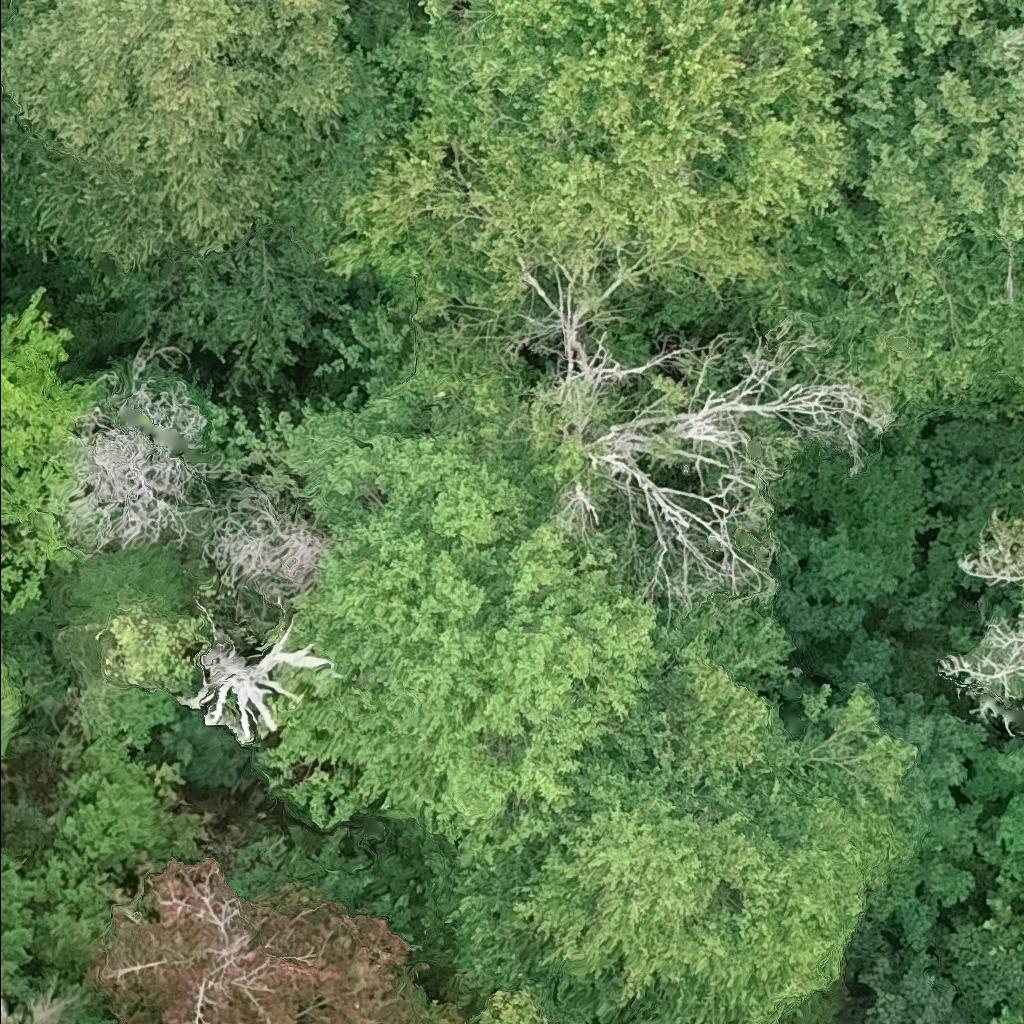crown: (269, 0, 860, 317), (495, 599, 923, 1023), (271, 430, 673, 854), (746, 0, 1023, 405), (0, 0, 411, 265), (88, 856, 431, 1023), (62, 409, 236, 556), (176, 613, 334, 744), (202, 487, 336, 608), (934, 617, 1023, 702), (958, 522, 1023, 587), (0, 656, 22, 761), (1018, 610, 1023, 619), (727, 1020, 733, 1023)
